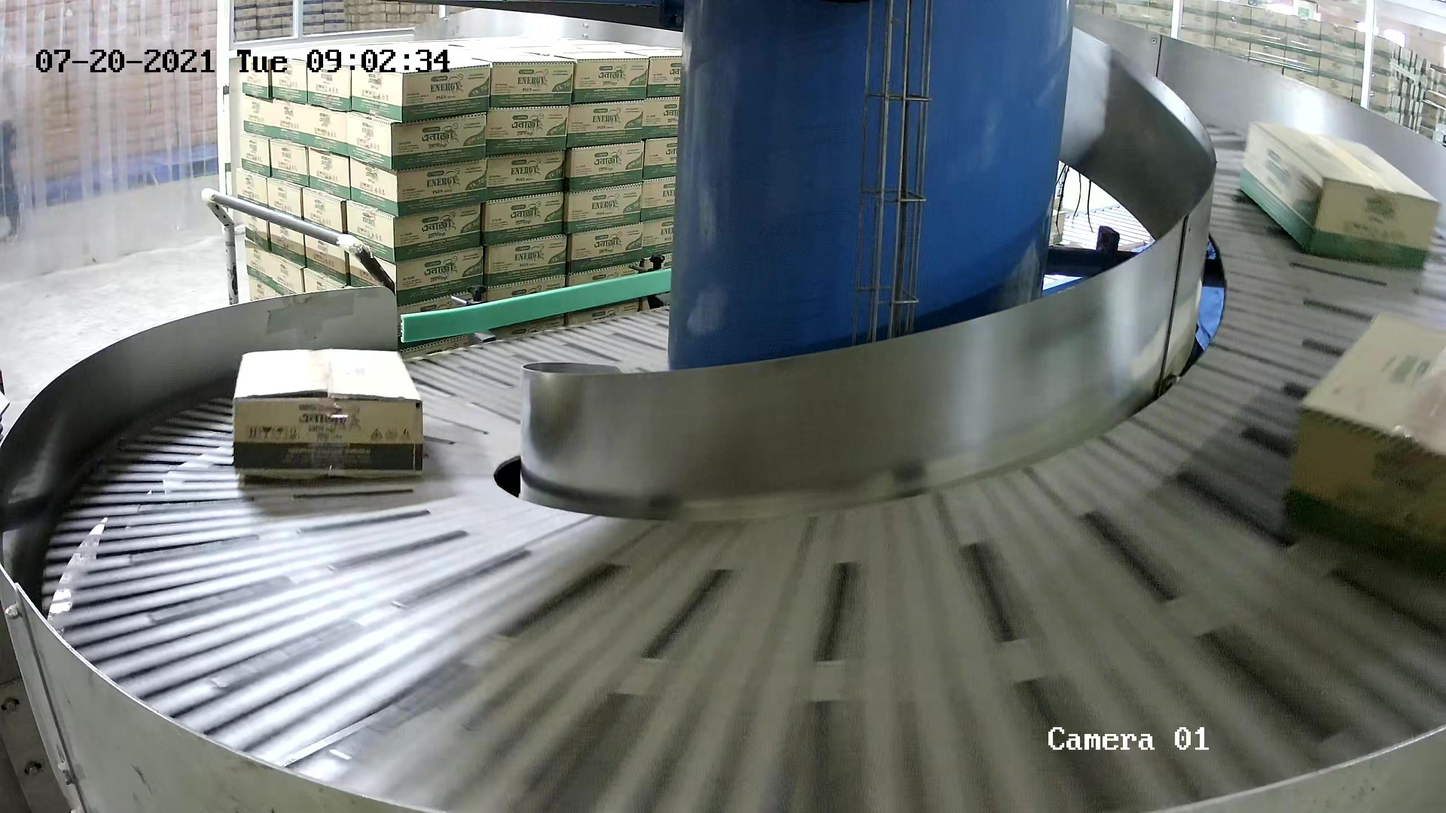Box: (1283, 305, 1446, 581), (1237, 118, 1442, 271), (230, 346, 428, 482)
